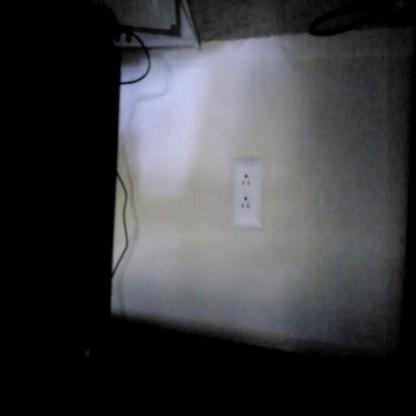OUTLET: (232, 158, 264, 228)
